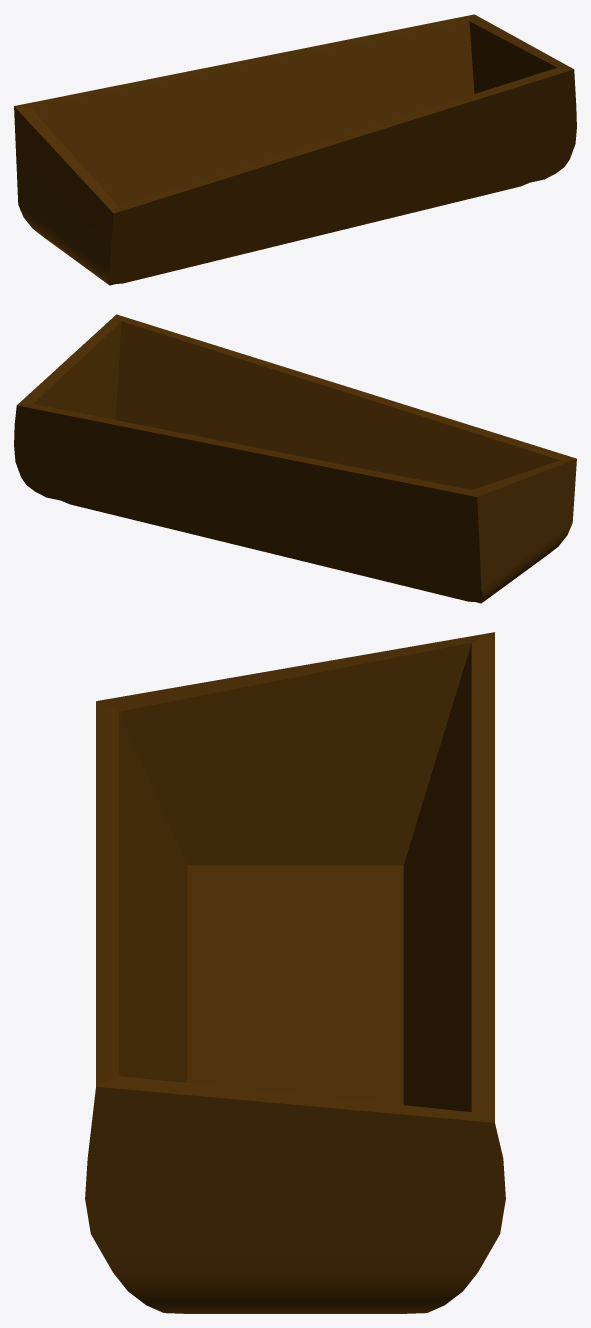
Rendered from trough.fbx.
3 views of the same model, one above another, from view 1: azimuth 30°, elevation 25°; view 2: azimuth 150°, elevation 25°; view 3: azimuth 270°, elevation 25° (orthographic). The views are drawn at different scales.
Visible parts, largest first — view 1: pCube1; view 2: pCube1; view 3: pCube1.
Part boxes in pixels (x1=…): pCube1: x1=14, y1=14, x2=576, y2=285; pCube1: x1=14, y1=314, x2=576, y2=603; pCube1: x1=85, y1=632, x2=505, y2=1313.
Size of the model in its own units: 14.06 by 3.74 by 5.56.
